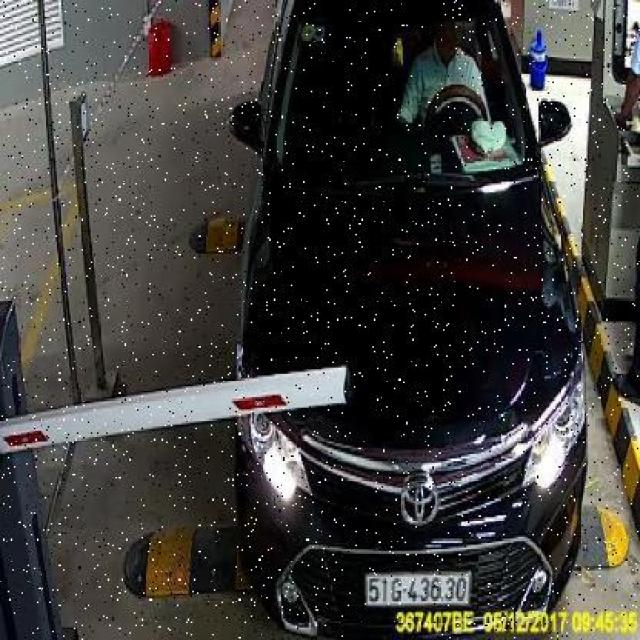number_plate: (368, 555, 478, 611)
